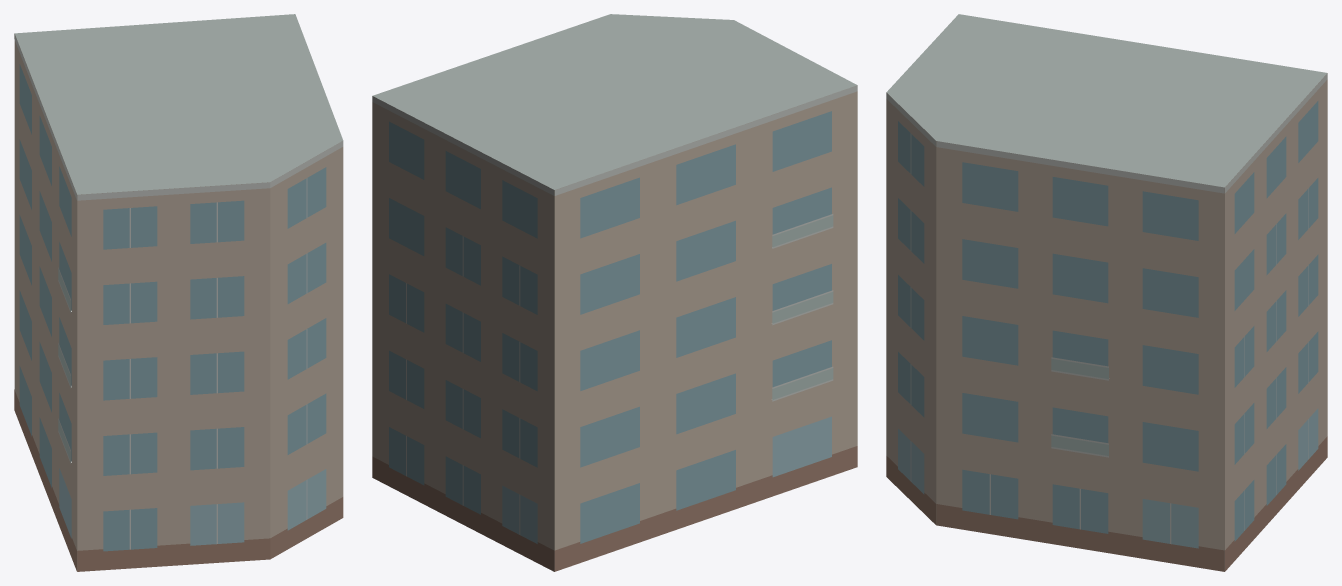
Rendered from survey-upis-32870159.glb.
The picture shows the model from 3 angles, left to right: view 1: azimuth 30°, elevation 25°; view 2: azimuth 150°, elevation 25°; view 3: azimuth 270°, elevation 25°; orthographic projection.
Visible parts, largest first — view 1: survey-upis-32870159.tmp; view 2: survey-upis-32870159.tmp; view 3: survey-upis-32870159.tmp.
Boxes of the visible parts, box(x1,y1,x2,y2) form: survey-upis-32870159.tmp: box(14, 14, 343, 571); survey-upis-32870159.tmp: box(372, 14, 857, 571); survey-upis-32870159.tmp: box(886, 14, 1327, 571).
Bounding box in the file's own units: 14.82 × 15.3 × 15.93.
